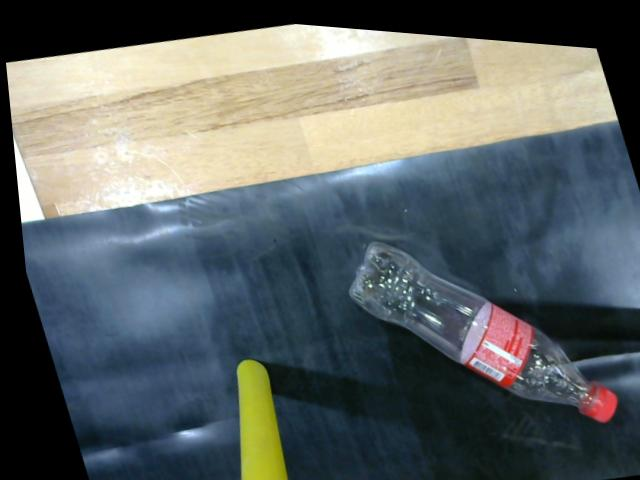bottle: (337, 232, 622, 422)
